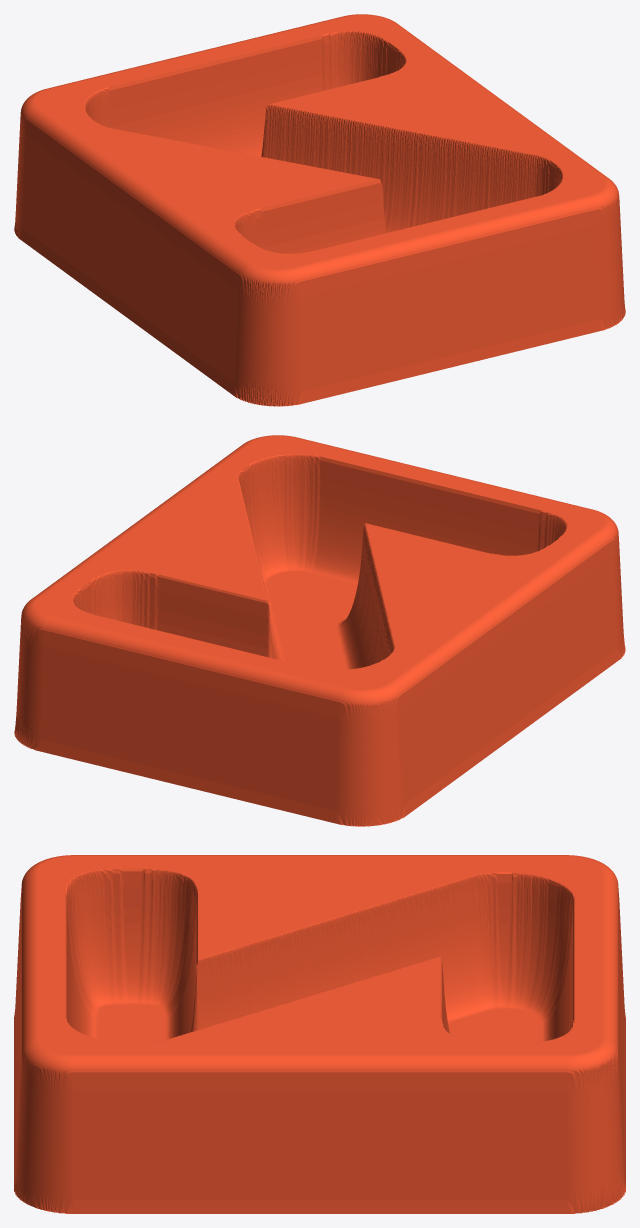
Rendered from mold.glb.
3 renders of one model, top to bottom at view 1: azimuth 30°, elevation 25°; view 2: azimuth 150°, elevation 25°; view 3: azimuth 270°, elevation 25°, orthographic. The views are drawn at different scales.
Visible parts, largest first — view 1: geometry_0; view 2: geometry_0; view 3: geometry_0.
Boxes of the visible parts, x1,y1,x2,y2 form: geometry_0: (14, 14, 625, 406); geometry_0: (14, 435, 625, 826); geometry_0: (14, 855, 625, 1213).
Bounding box in the file's own units: 0.078 × 0.0248 × 0.0924.
